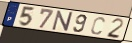2: (106, 18, 125, 39)
5: (17, 6, 37, 27)
7: (39, 8, 55, 29)
9: (73, 14, 88, 33)
C: (90, 16, 106, 36)
N: (51, 10, 74, 33)
